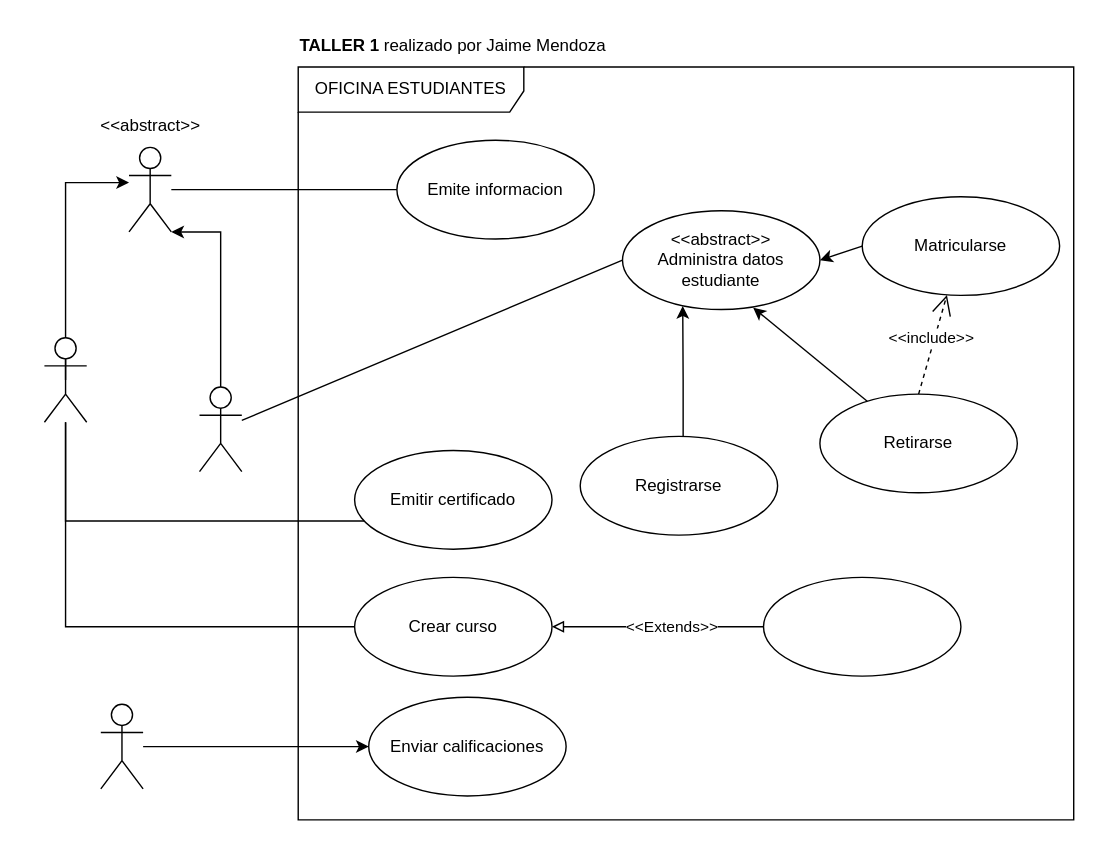
This 1098x845 diagram has some shape labels left out. The shapes that lost their labels are listed below. From the top down, each one's centre as x and y in pixels, then its label:
the point at 149,189: Empleado
the point at 65,379: AdminEmp
the point at 220,429: ServEmp
the point at 861,626: Reservar sala
the point at 121,746: Profesor
